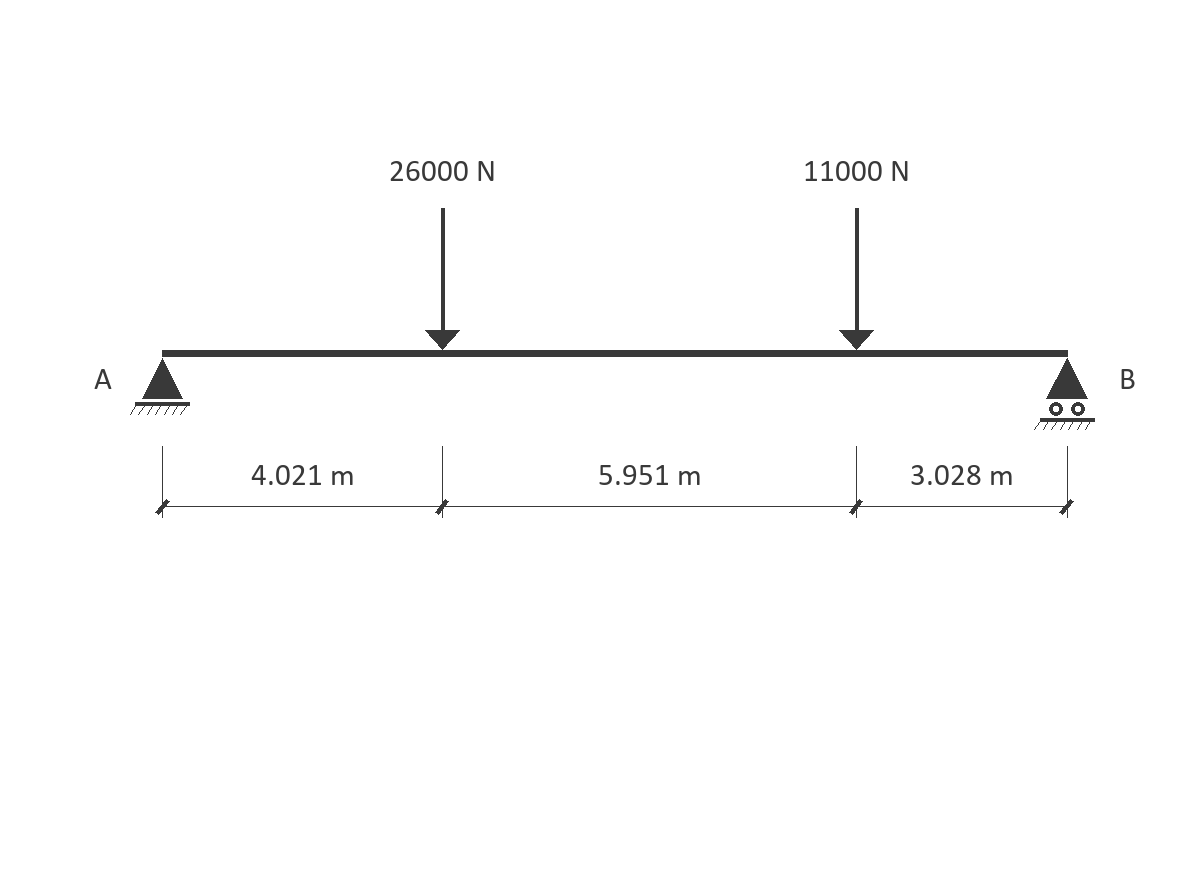pin_support: (130, 358, 190, 415)
point_load: (425, 208, 460, 350), (839, 208, 874, 350)
roller_support: (1034, 358, 1095, 430)
